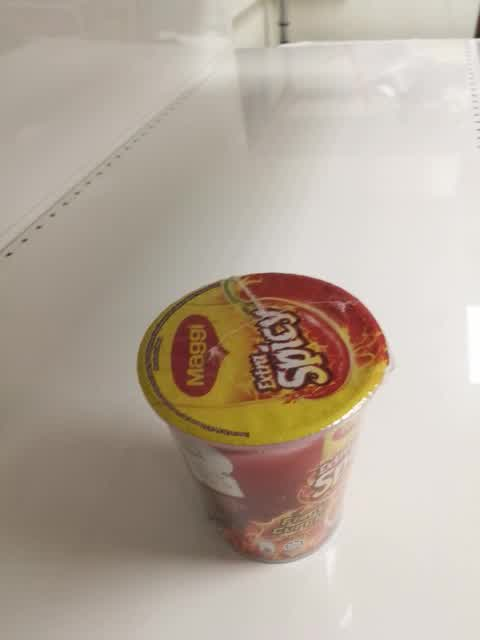maggi: (136, 271, 391, 567)
